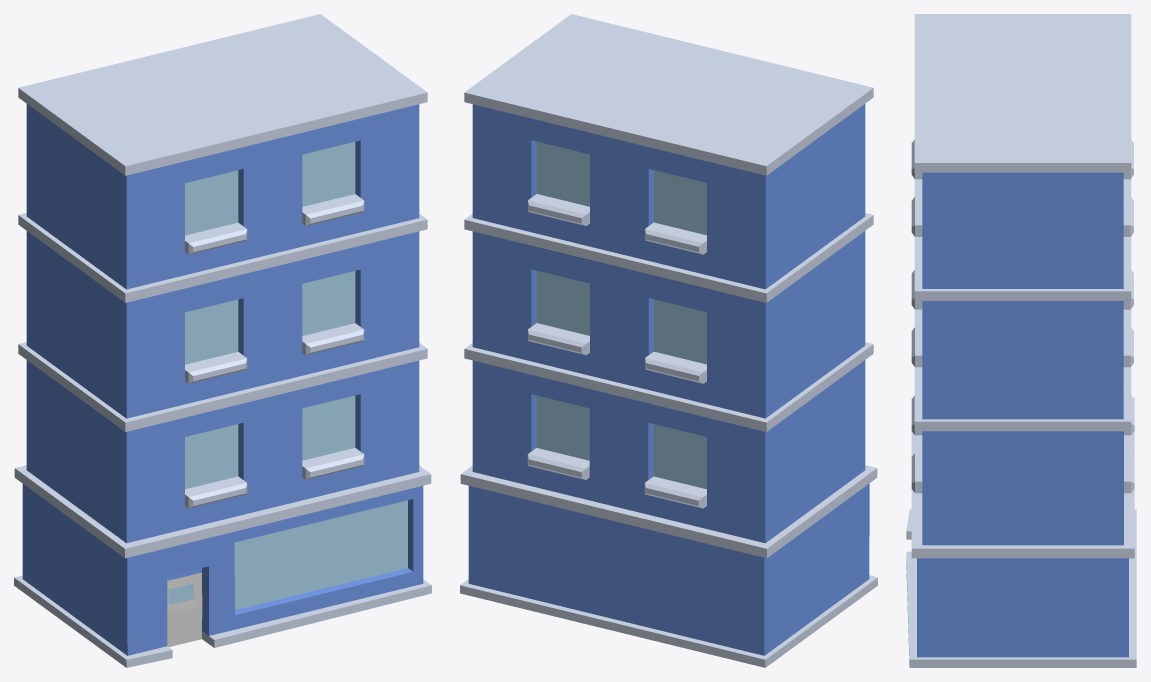
Rendered from storeC.fbx.
3 views of the same model, side by side, from view 1: azimuth 30°, elevation 25°; view 2: azimuth 150°, elevation 25°; view 3: azimuth 270°, elevation 25° (orthographic).
Visible parts, largest first — view 1: StoreC; view 2: StoreC; view 3: StoreC.
Boxes of the visible parts, left/top/right/bottom form: StoreC: left=14, top=14, right=431, bottom=667; StoreC: left=460, top=14, right=877, bottom=667; StoreC: left=906, top=14, right=1136, bottom=667.
Size of the model in its own units: 1671 by 2604 by 1077.
